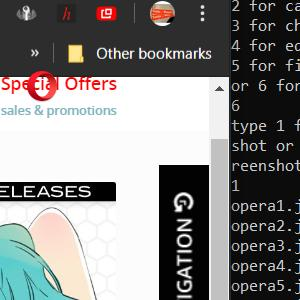opera: (27, 71, 57, 102)
